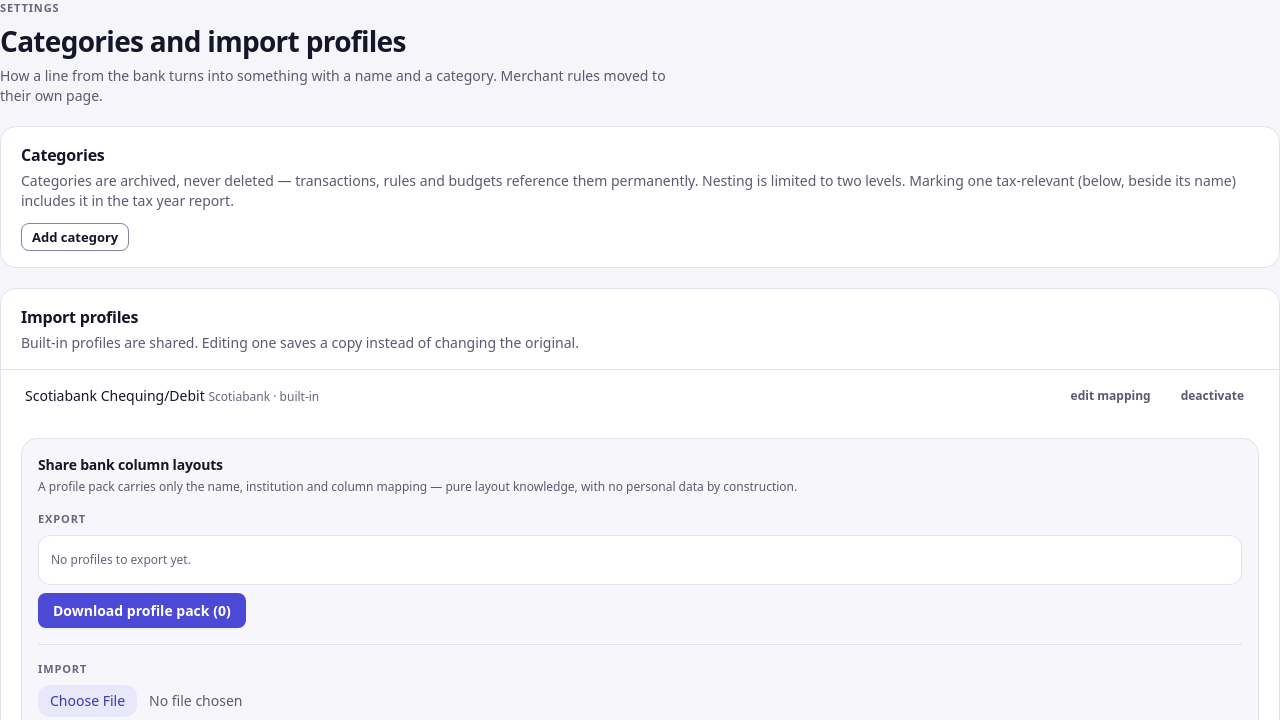
Scenario: ManagersClient — profile deactivation (spec 2026-08-22 v1.6.0, MUST-4.1/MUST-4.3) › cancelling the deactivate warning submits nothing and hides the warning again
The width and height of the screenshot is (1280, 720).
Click the button "deactivate" at (1212, 396), box x1=1170 y1=382 x2=1255 y2=410
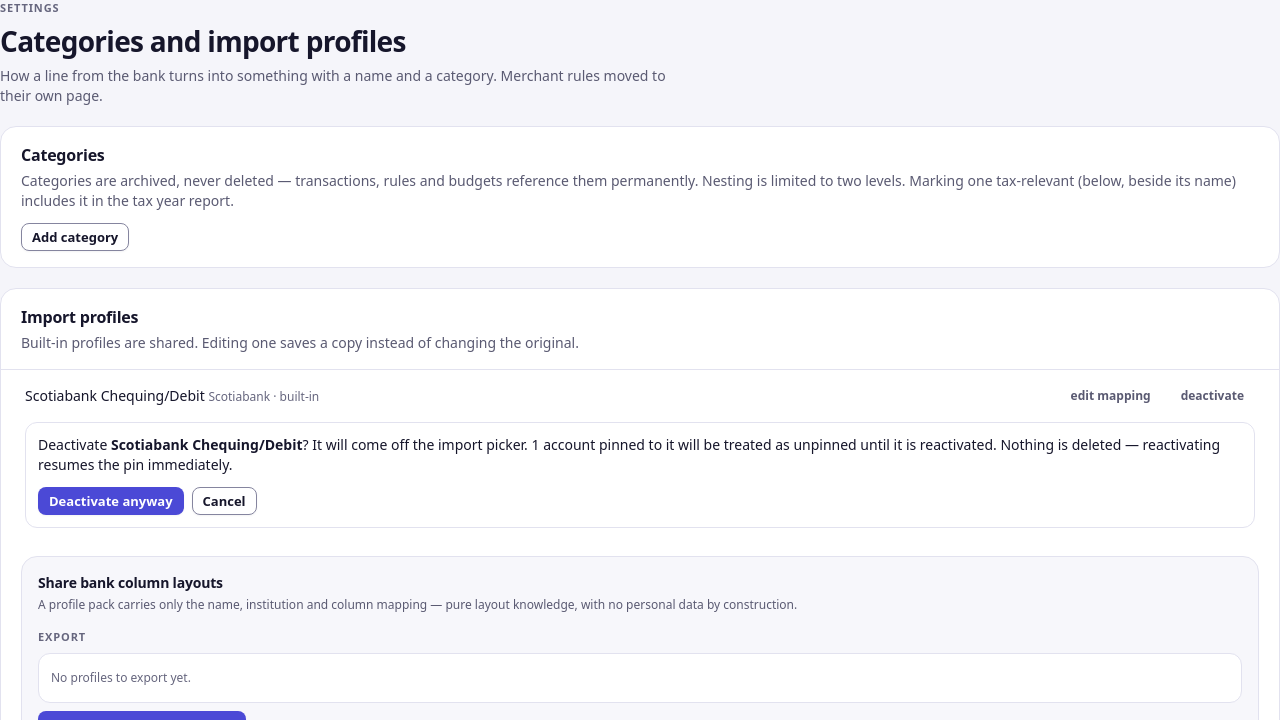
Expected: the text "1 account" is shown, x1=38 y1=435 x2=1220 y2=474
Click the button "Cancel" at (224, 501), box x1=192 y1=487 x2=257 y2=515
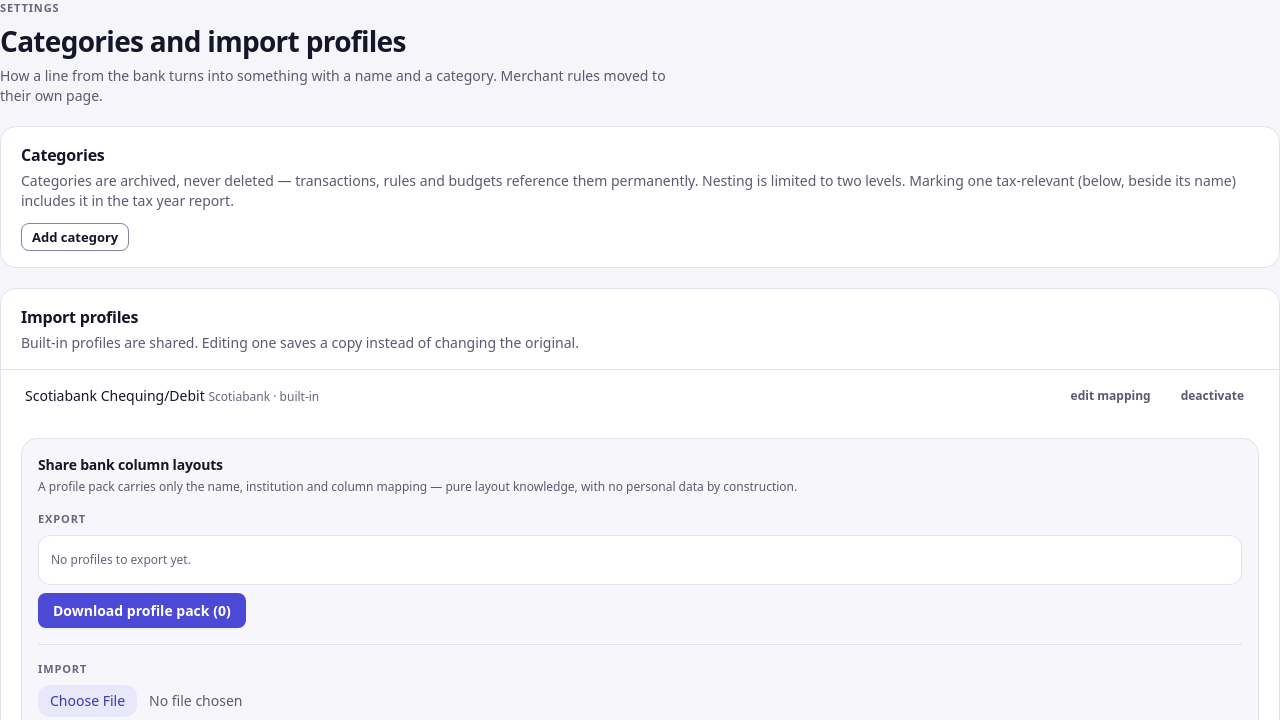
Expected: the button "Deactivate anyway" is gone
